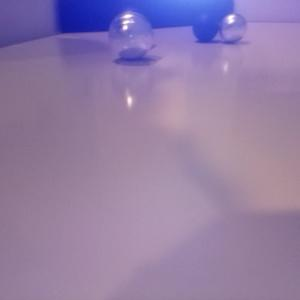alive_ball: (106, 10, 153, 60), (218, 13, 247, 43)
dead_ball: (192, 12, 218, 40)
